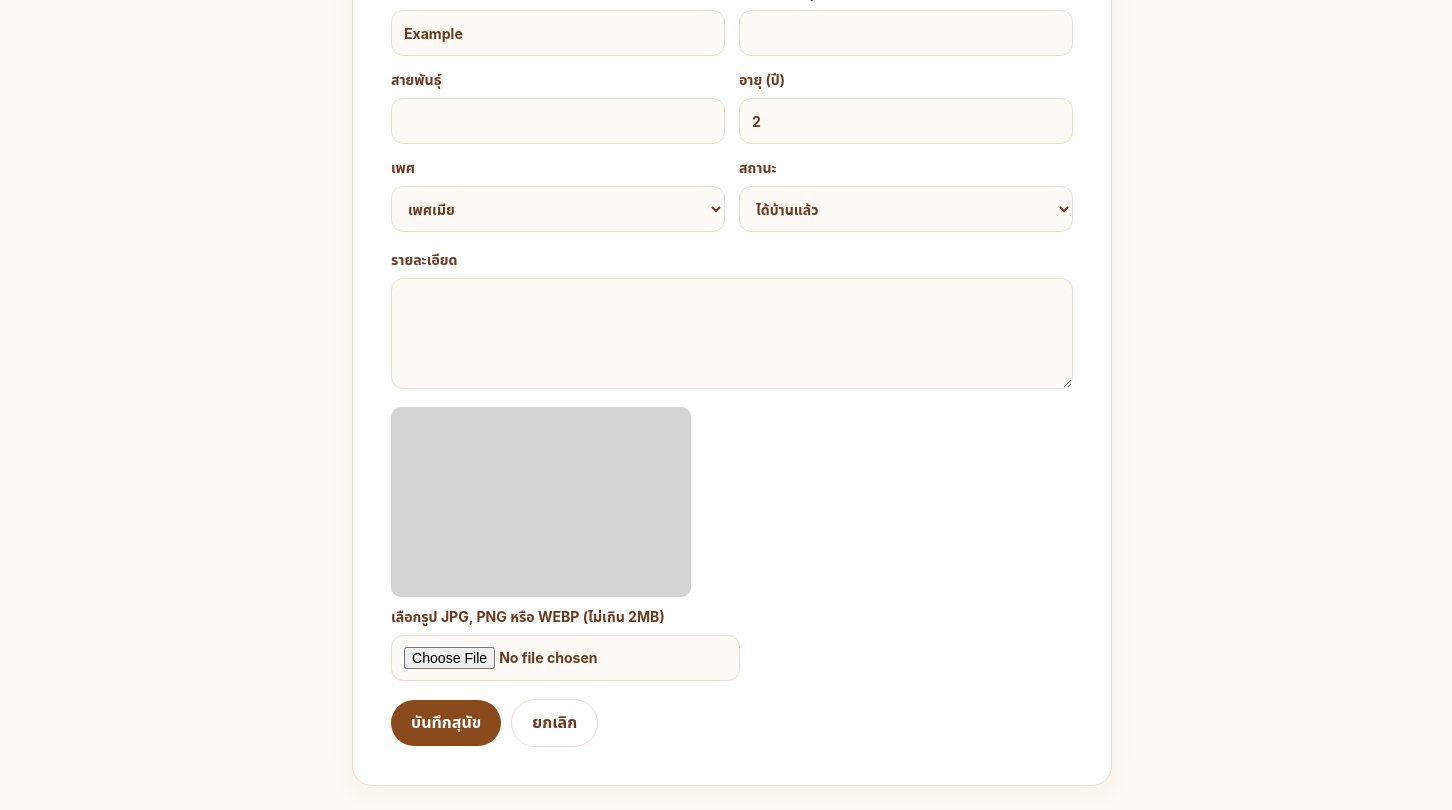
Test: DogFormPage › retries a failed save without uploading the same file again
The width and height of the screenshot is (1452, 810).
Earlier steps of the test are not shown.
Later steps or results of the test are not shown.
(page scrolled)
What coordinates should you click on to do the following:
click the button "บันทึกสุนัข"
I would click on:
 (446, 723)
Its box is [391, 700, 501, 746].
What coordinates should you click on to do the following:
click the button "บันทึกสุนัข"
I would click on:
 (446, 723)
Its box is [391, 700, 501, 746].
(page scrolled)
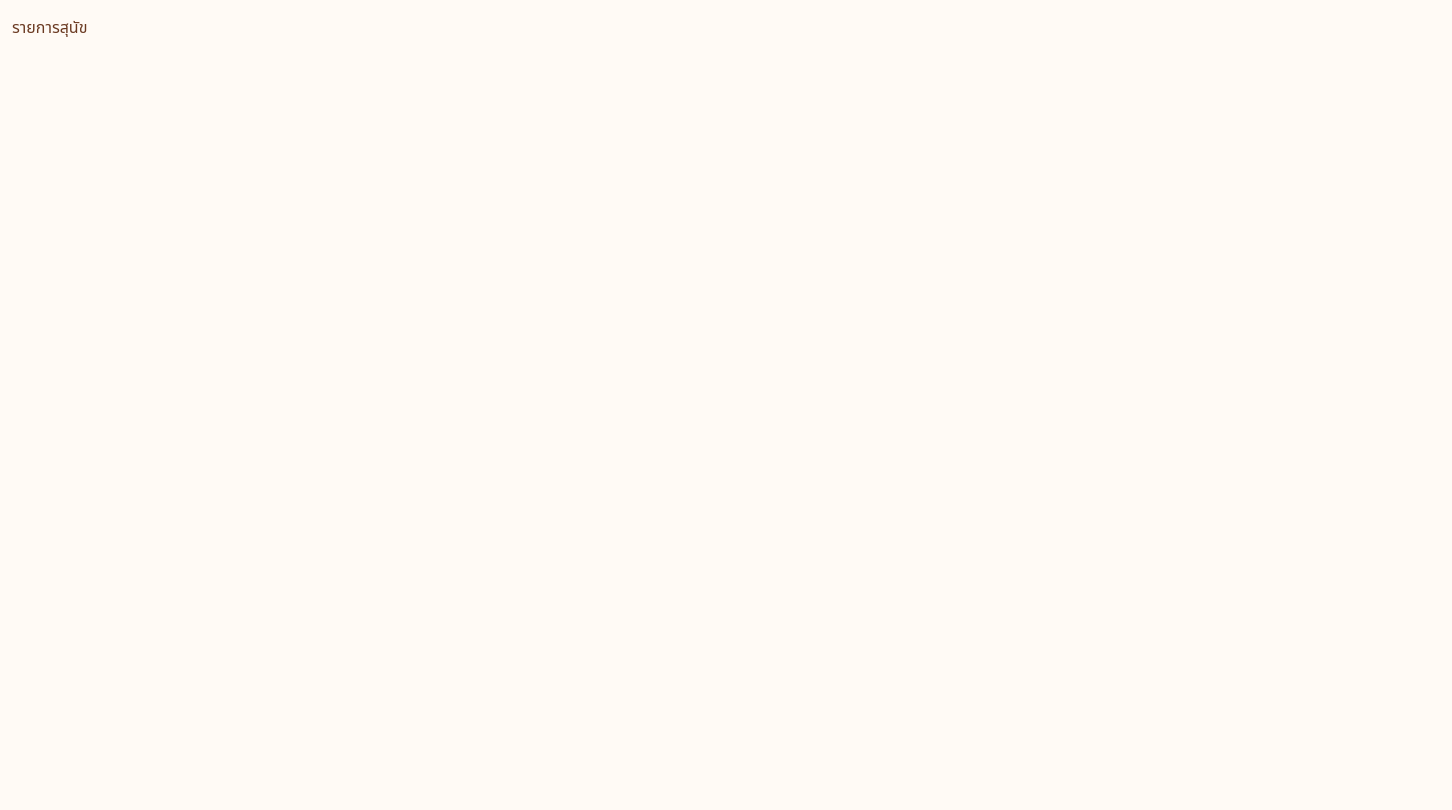
Expected: the text "รายการสุนัข" is shown, [12, 17, 87, 37]
